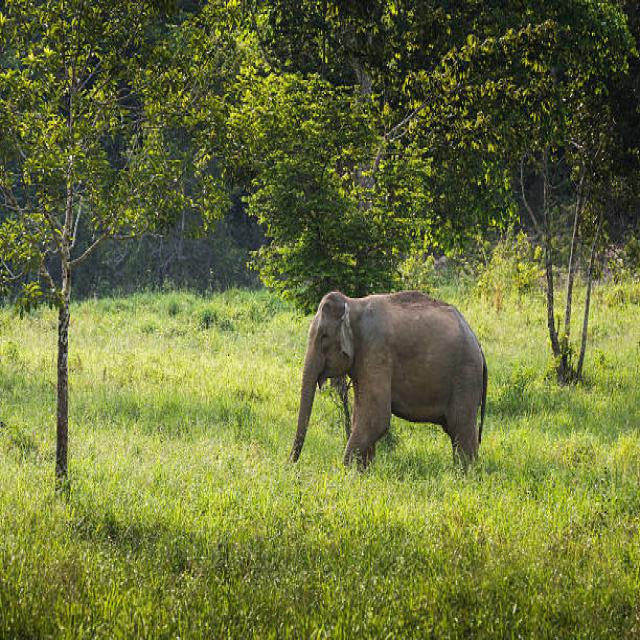Elephant: (280, 281, 500, 486)
